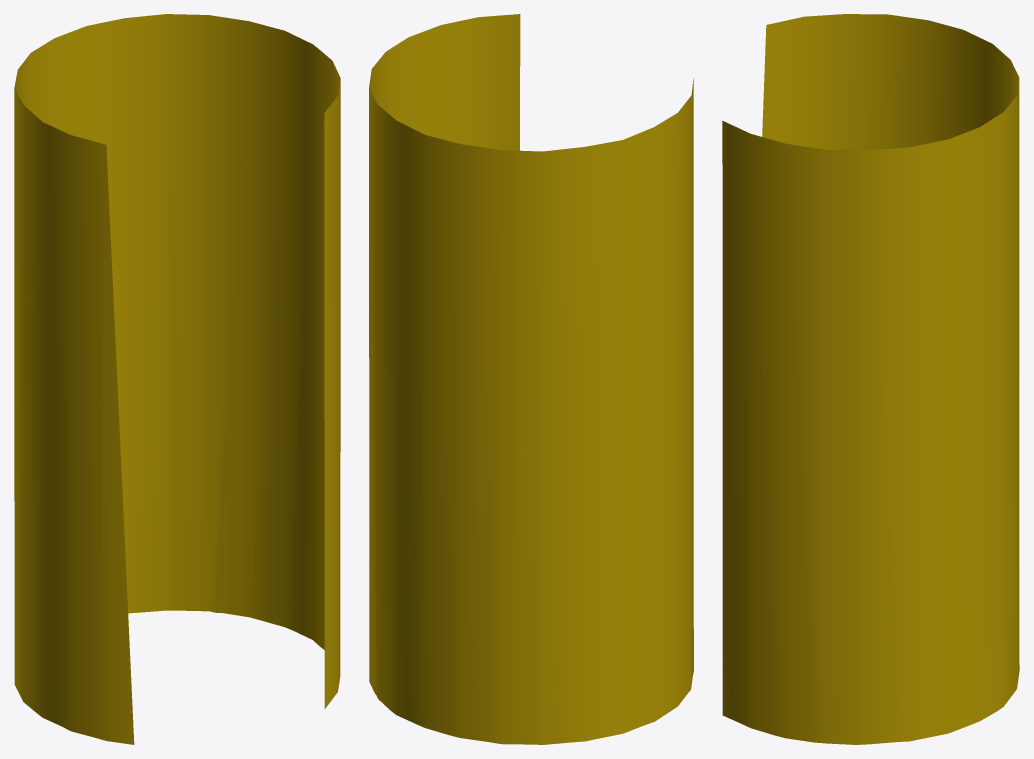
File: original_3.obj
3 renders of one model, left to right at view 1: azimuth 30°, elevation 25°; view 2: azimuth 150°, elevation 25°; view 3: azimuth 270°, elevation 25°, orthographic.
Parts seen in each view (by area): view 1: mesh3/mesh3-geometry#mesh3-geometry; view 2: mesh3/mesh3-geometry#mesh3-geometry; view 3: mesh3/mesh3-geometry#mesh3-geometry.
Part boxes in pixels (bbox=[...]): mesh3/mesh3-geometry#mesh3-geometry: bbox=[14, 14, 340, 744]; mesh3/mesh3-geometry#mesh3-geometry: bbox=[369, 14, 693, 744]; mesh3/mesh3-geometry#mesh3-geometry: bbox=[722, 14, 1019, 744].
Size of the model in its own units: 0.0858 by 0.1736 by 0.0785.
